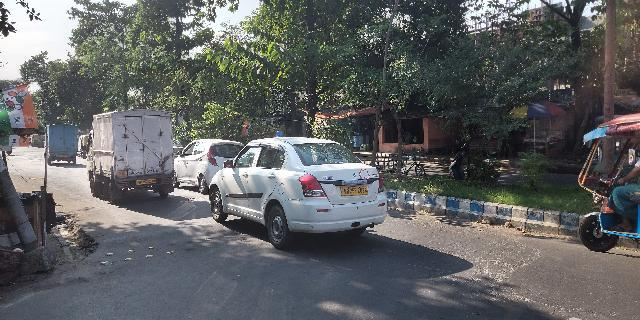Car: (208, 128, 392, 243), (172, 137, 244, 193)
Minitruck: (82, 107, 177, 201), (41, 119, 83, 168)
Rickshaw: (579, 111, 640, 256)
